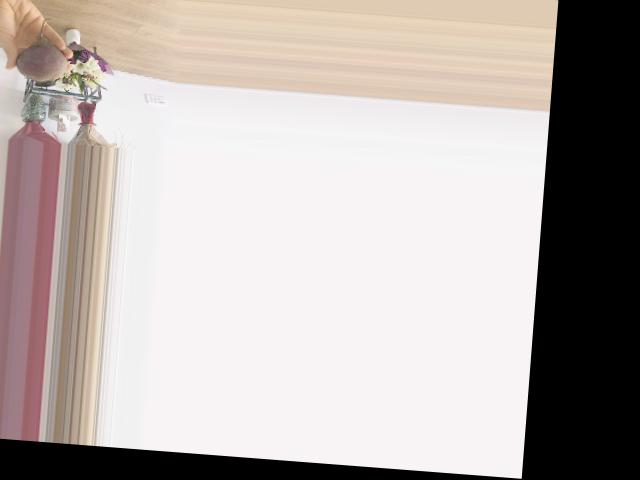beet: (15, 15, 71, 88)
